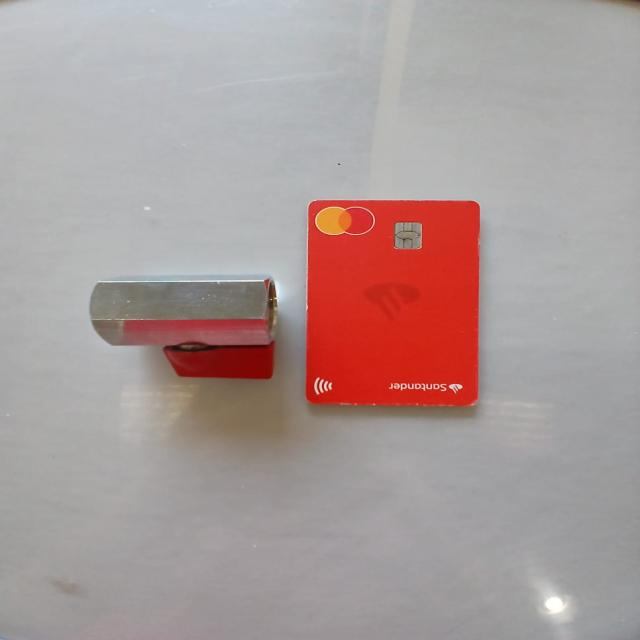cartao: (308, 200, 478, 406)
rosca_interna: (92, 275, 276, 378)
